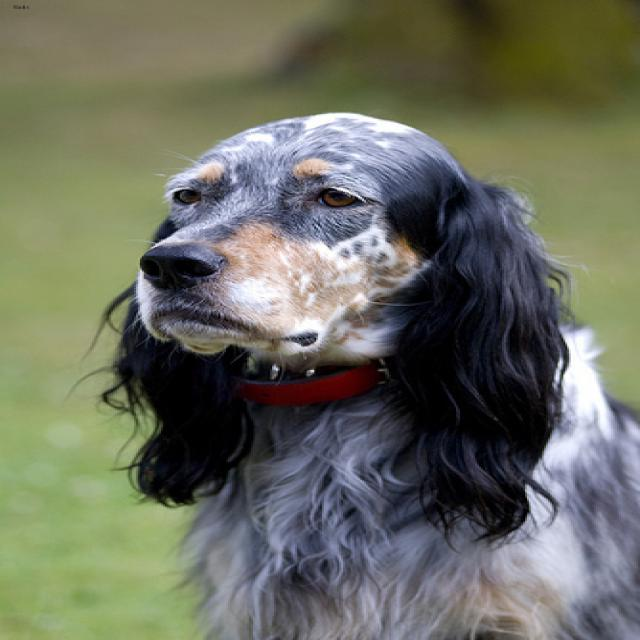dog-english_setter: (50, 101, 636, 637)
